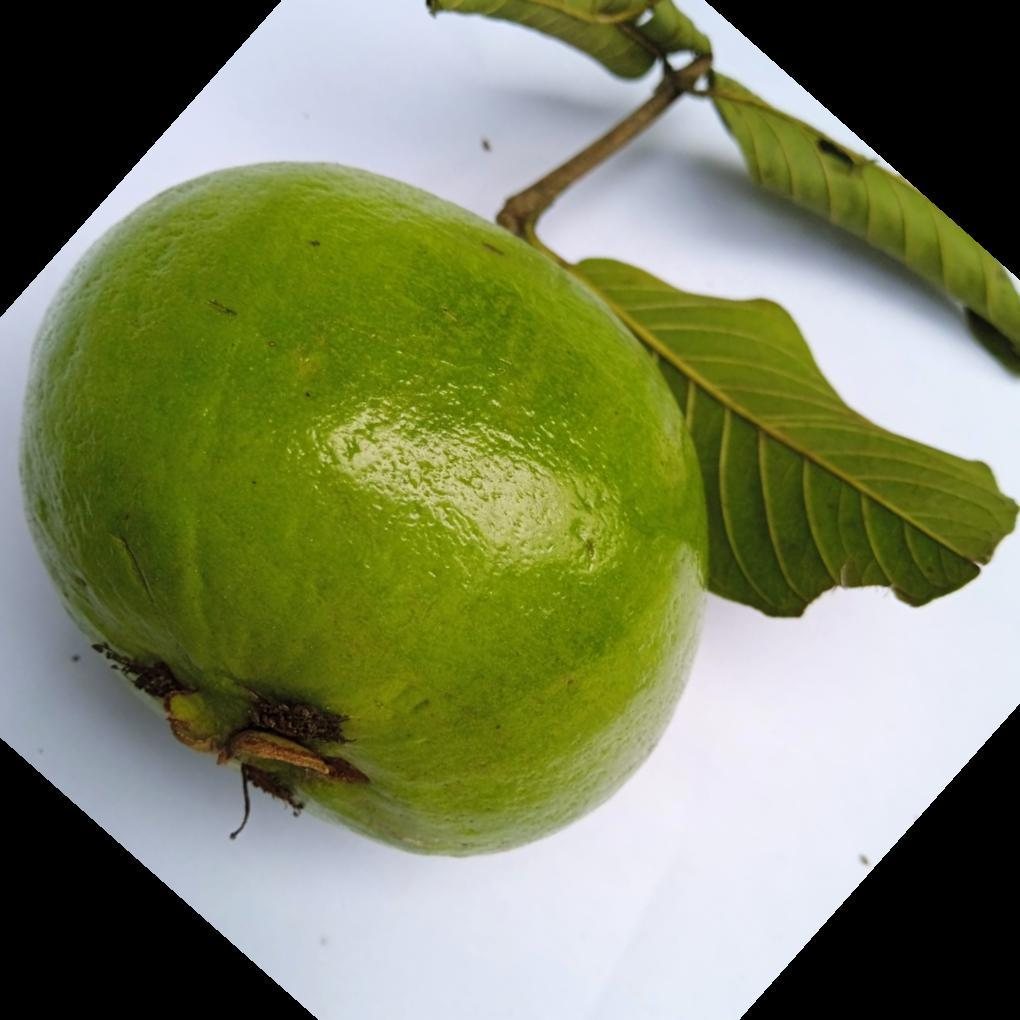FreshGuava: (17, 159, 1014, 861)
